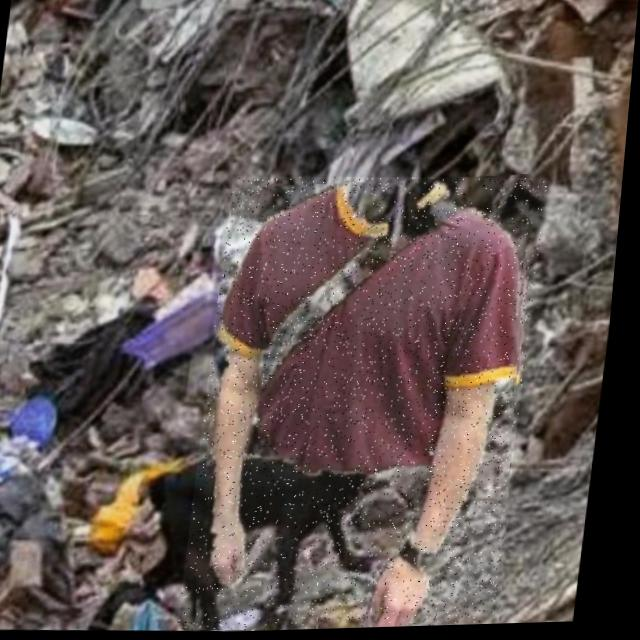Person in Rubble: (187, 170, 551, 635)
